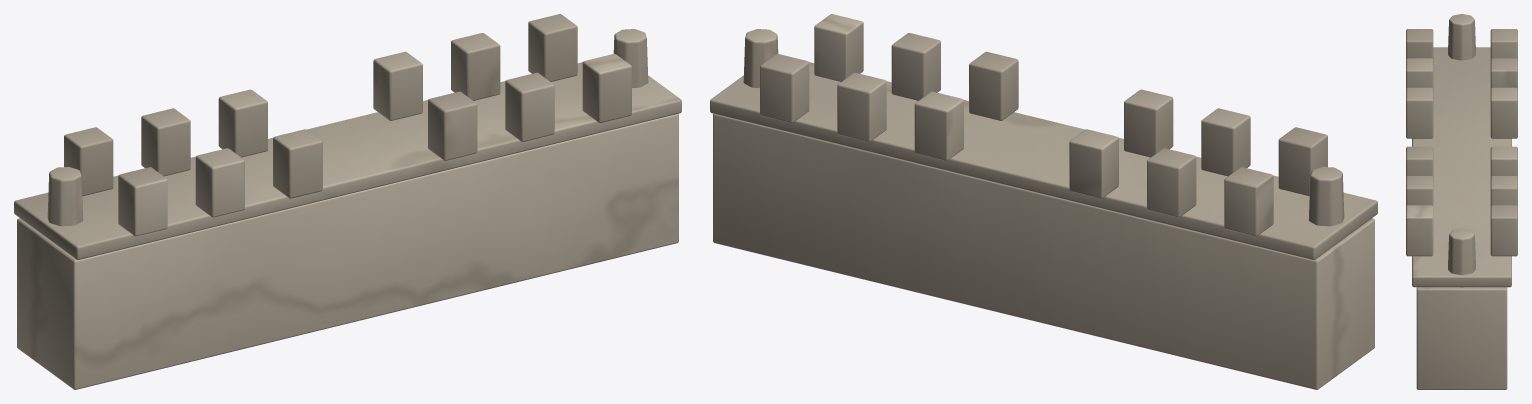
File: building_church_sacred_walls.fbx
The picture shows the model from 3 angles, left to right: view 1: azimuth 30°, elevation 25°; view 2: azimuth 150°, elevation 25°; view 3: azimuth 270°, elevation 25°; orthographic projection. The views are drawn at different scales.
Visible parts, largest first — view 1: building_church_sacred_walls; view 2: building_church_sacred_walls; view 3: building_church_sacred_walls.
Boxes of the visible parts, left/top/right/bottom form: building_church_sacred_walls: left=14, top=14, right=681, bottom=389; building_church_sacred_walls: left=710, top=14, right=1377, bottom=389; building_church_sacred_walls: left=1406, top=14, right=1517, bottom=389.
Size of the model in its own units: 9 by 2.78 by 1.85.
